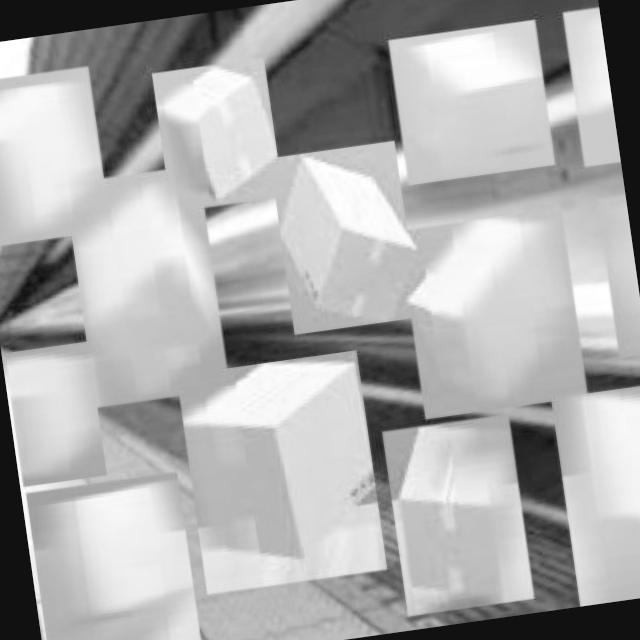box: (172, 347, 390, 600), (394, 204, 592, 425), (61, 162, 233, 412), (380, 413, 536, 620), (22, 468, 206, 640), (266, 138, 422, 340), (384, 17, 558, 190), (148, 56, 286, 216), (547, 380, 640, 607), (0, 64, 112, 250), (2, 340, 108, 491), (562, 6, 622, 170), (595, 191, 640, 361)
